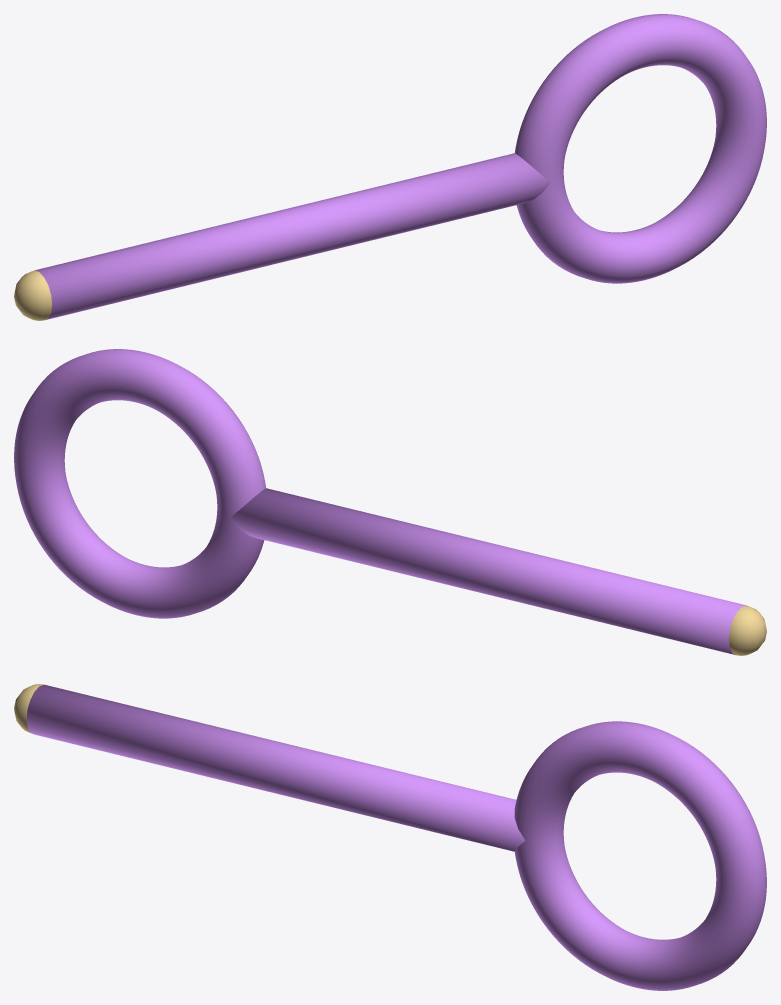
The model's file is lollipop-Ct2X6Kxo.glb.
3 views of the same model, one above another, from view 1: azimuth 30°, elevation 25°; view 2: azimuth 150°, elevation 25°; view 3: azimuth 330°, elevation 25° (orthographic).
Parts seen in each view (by area): view 1: R3D_lollipop_Body_1, R3D_lollipop_Body_0, R3D_lollipop_Tip_0; view 2: R3D_lollipop_Body_1, R3D_lollipop_Body_0, R3D_lollipop_Tip_0; view 3: R3D_lollipop_Body_1, R3D_lollipop_Body_0, R3D_lollipop_Tip_0.
Boxes of the visible parts, x1,y1,x2,y2 form: R3D_lollipop_Body_1: (515,14,766,283); R3D_lollipop_Body_0: (35,153,550,319); R3D_lollipop_Tip_0: (14,270,51,320); R3D_lollipop_Body_1: (14,349,265,618); R3D_lollipop_Body_0: (230,488,745,654); R3D_lollipop_Tip_0: (729,605,766,655); R3D_lollipop_Body_1: (514,721,766,990); R3D_lollipop_Body_0: (26,684,525,851); R3D_lollipop_Tip_0: (14,684,43,733).
Size of the model in its own units: 4.04 by 1.34 by 0.24.
